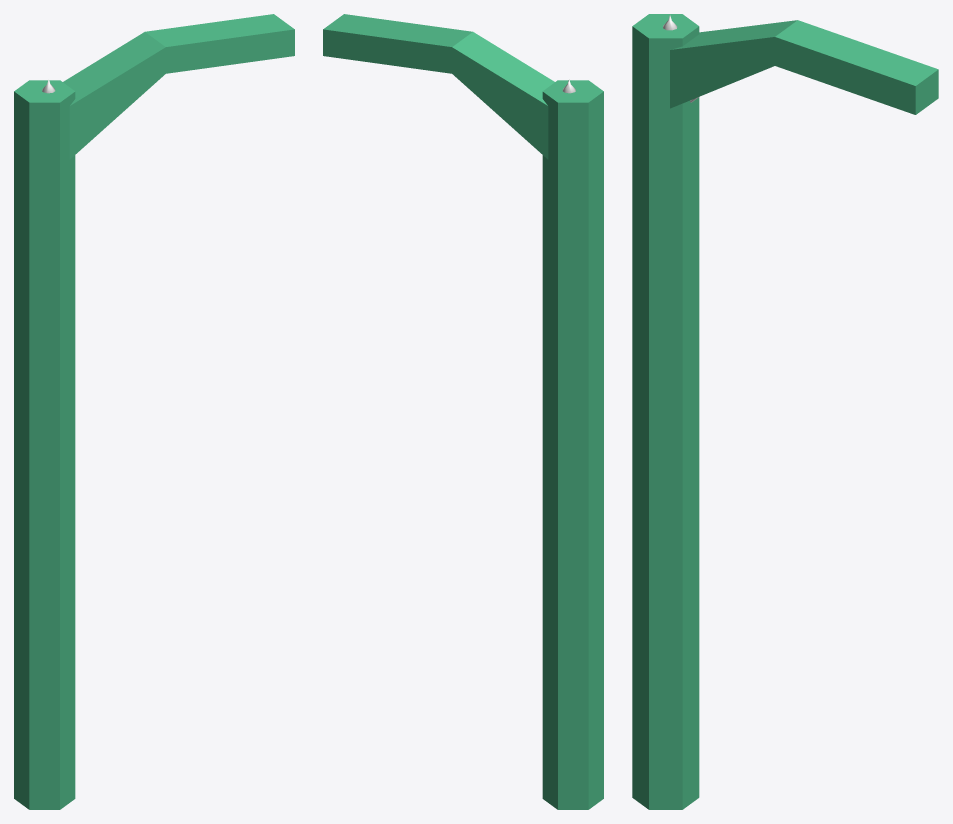
The model's file is eca_lamppost.dae.
The picture shows the model from 3 angles, left to right: view 1: azimuth 30°, elevation 25°; view 2: azimuth 150°, elevation 25°; view 3: azimuth 330°, elevation 25°; orthographic projection. The views are drawn at different scales.
Parts seen in each view (by area): view 1: Colmesh-1; view 2: Colmesh-1; view 3: Colmesh-1.
Part boxes in pixels (bbox=[...]): Colmesh-1: bbox=[14, 14, 294, 809]; Colmesh-1: bbox=[323, 14, 603, 809]; Colmesh-1: bbox=[632, 14, 938, 809].
Size of the model in its own units: 3.34 by 0.6746 by 8.89.
